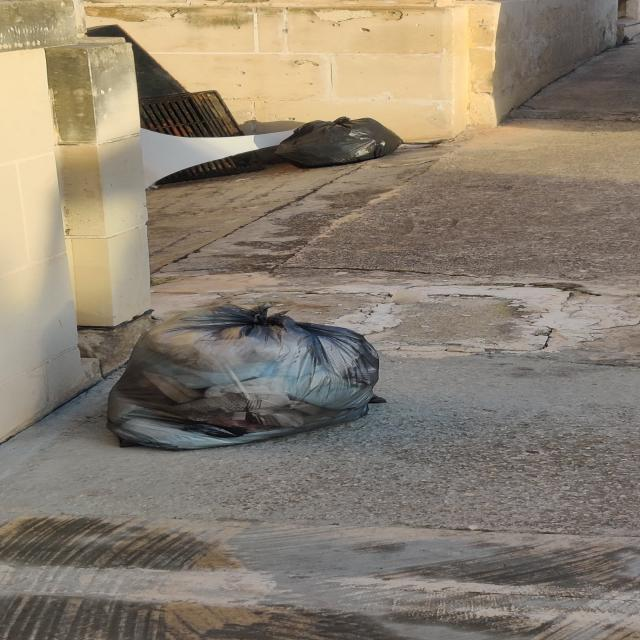Mixed Waste -Black Bags-: (105, 306, 389, 456), (270, 117, 409, 170)
